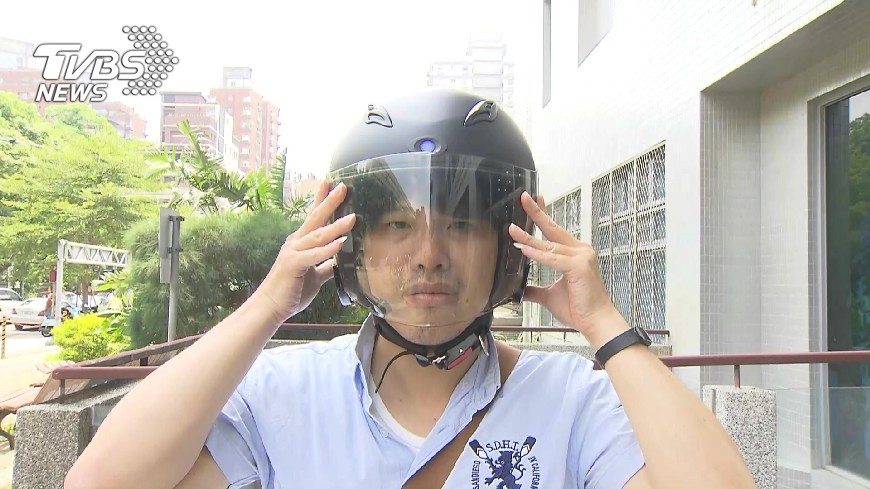helmet: (323, 85, 563, 209)
